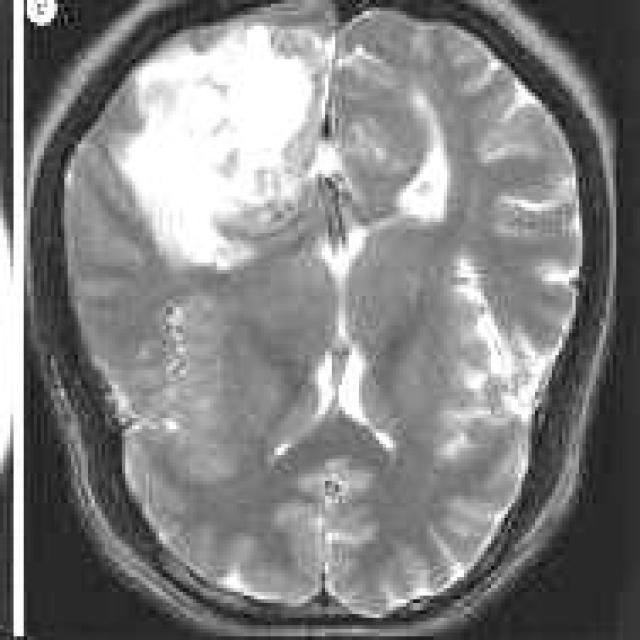brain tumor: (125, 30, 322, 266)
